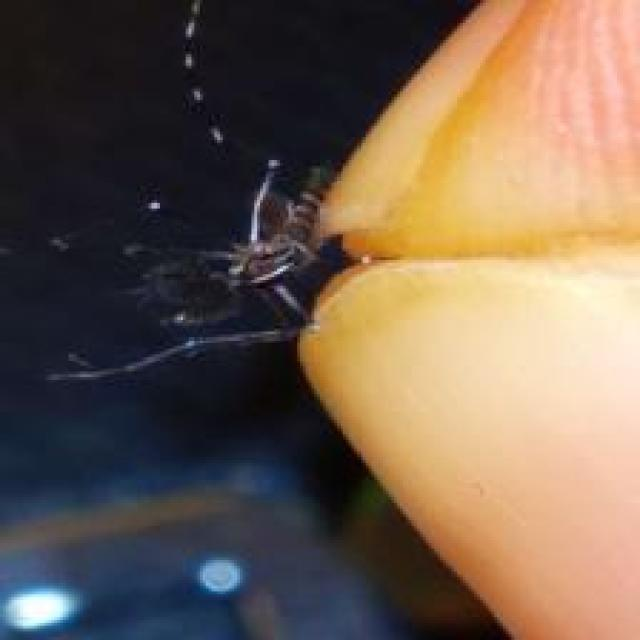Aedes albopictus: (43, 156, 340, 387)
